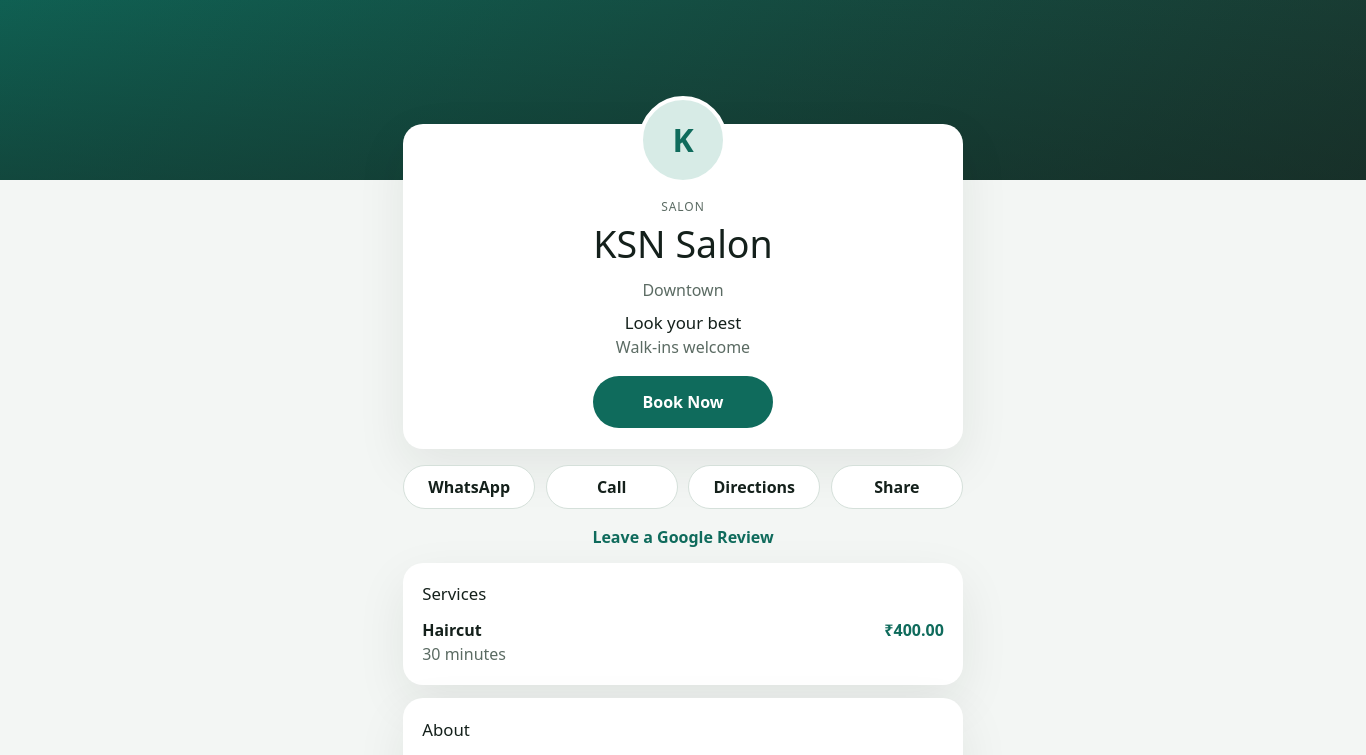
Test: QuickCardView › copies the public link when Web Share is unavailable
Click the button "Share": x=897, y=487 [831,465,963,509]
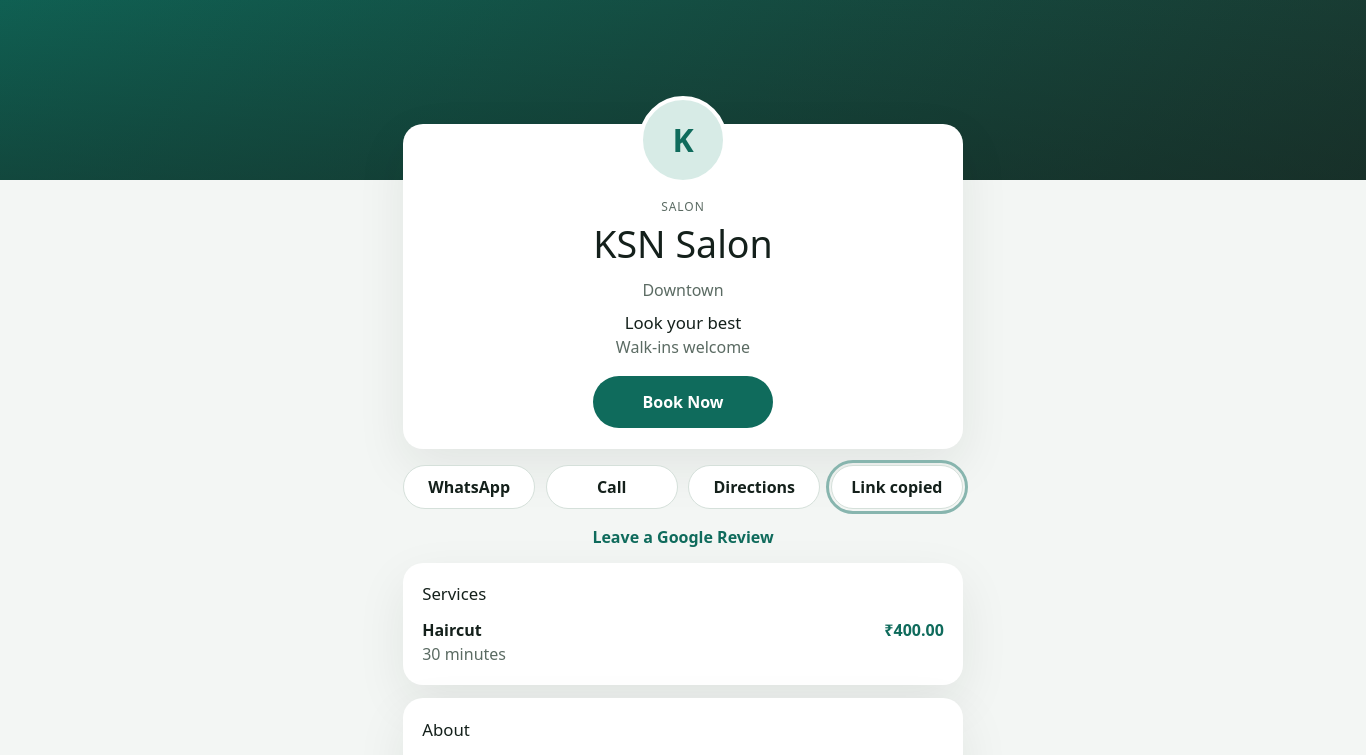
Check: the button "Link copied" is shown, box [831,465,963,509]
